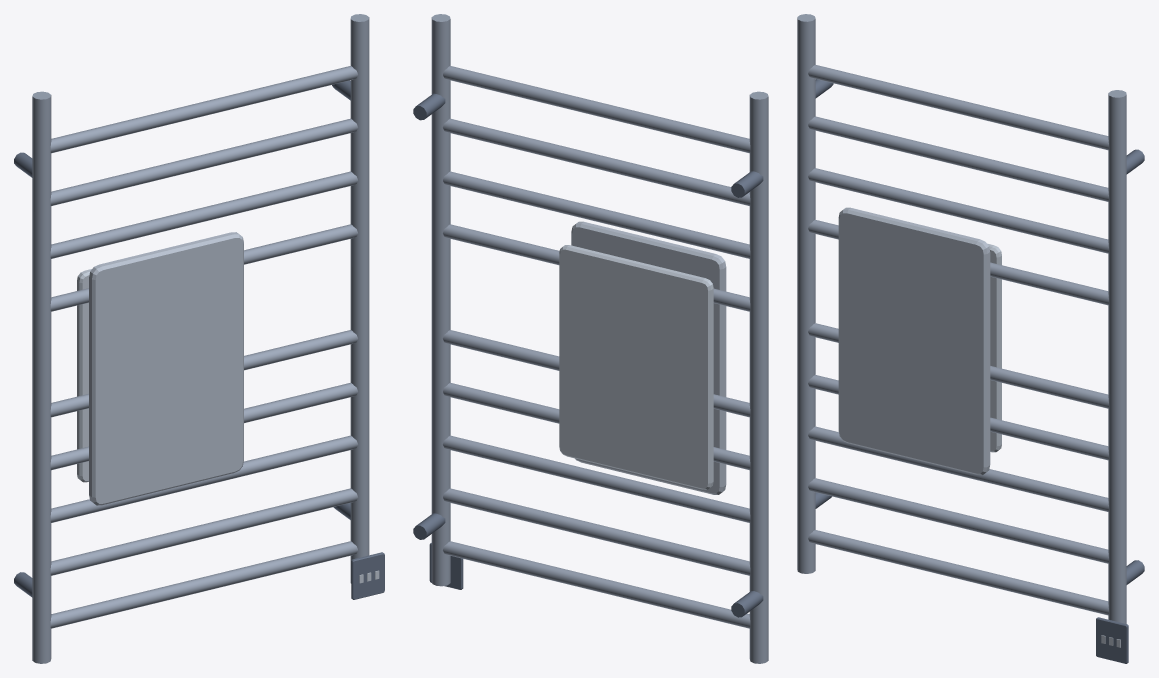
Rendered from heated-towel-rail.glb.
3 renders of one model, left to right at view 1: azimuth 30°, elevation 25°; view 2: azimuth 150°, elevation 25°; view 3: azimuth 330°, elevation 25°, orthographic. The views are drawn at different scales.
Visible parts, largest first — view 1: body, soft, dark, light; view 2: body, light, soft, dark; view 3: body, soft, dark, light.
Part boxes in pixels (box(x1,y1,x2,y2)): body: box(32, 14, 369, 663); soft: box(89, 232, 243, 505); dark: box(14, 80, 384, 599); light: box(77, 269, 379, 583); body: box(431, 14, 768, 663); light: box(559, 245, 713, 489); soft: box(571, 221, 726, 494); dark: box(413, 93, 763, 617); body: box(797, 14, 1126, 623); soft: box(838, 207, 990, 475); dark: box(815, 79, 1144, 663); light: box(987, 243, 1120, 647).
Size of the model in its own units: 0.4969 by 0.7925 by 0.078.
